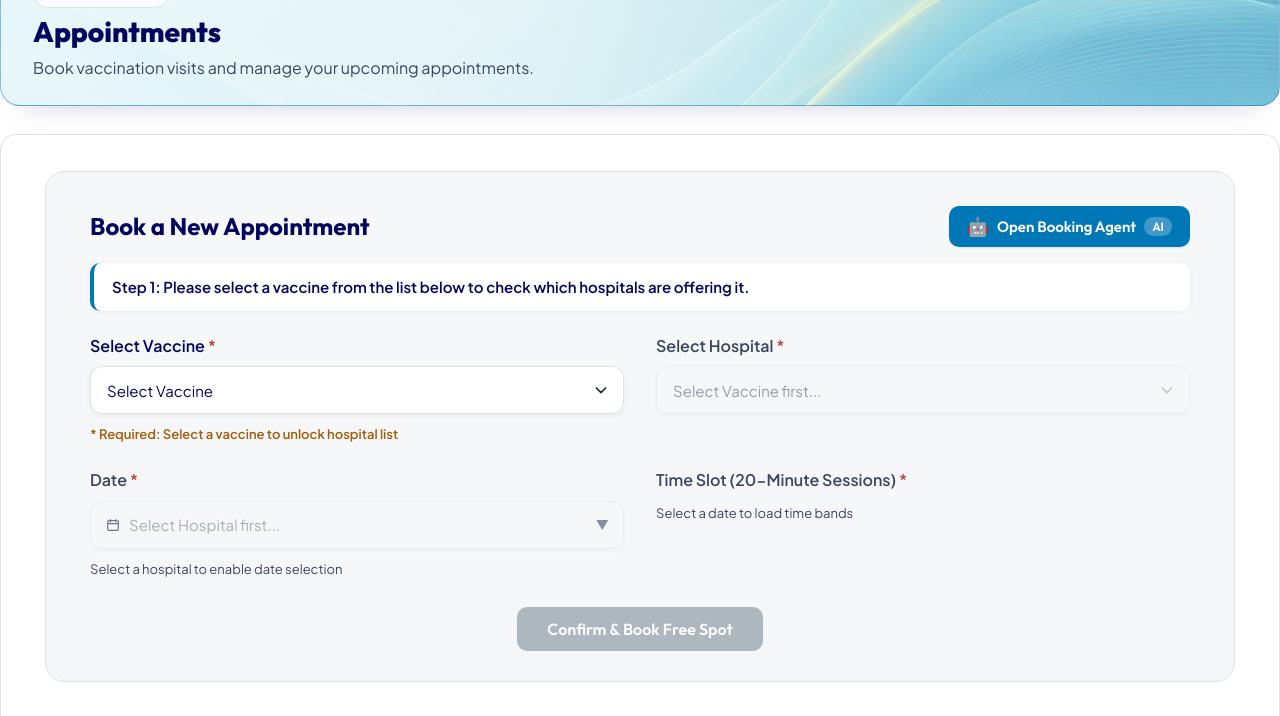
Test: Booking Management - Create Booking Form & Validation › handles API failure gracefully and displays error notification
Select "COVID-19 mRNA Booster (Moderna) (Routine)" in the dropdown with id "select-vaccine" at (357, 390), box [91,367,623,413]
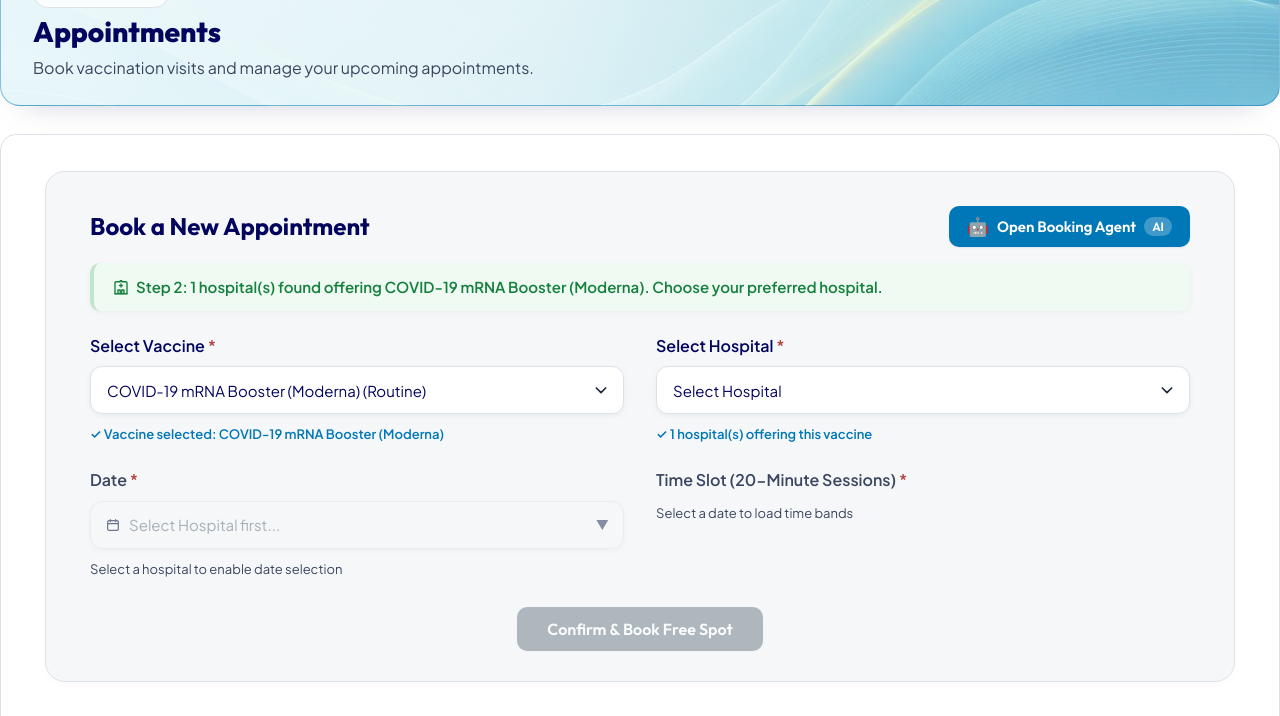
Select "National Hospital Colombo - Colombo 07" in the dropdown with id "select-hospital" at (923, 390), box [657,367,1189,413]
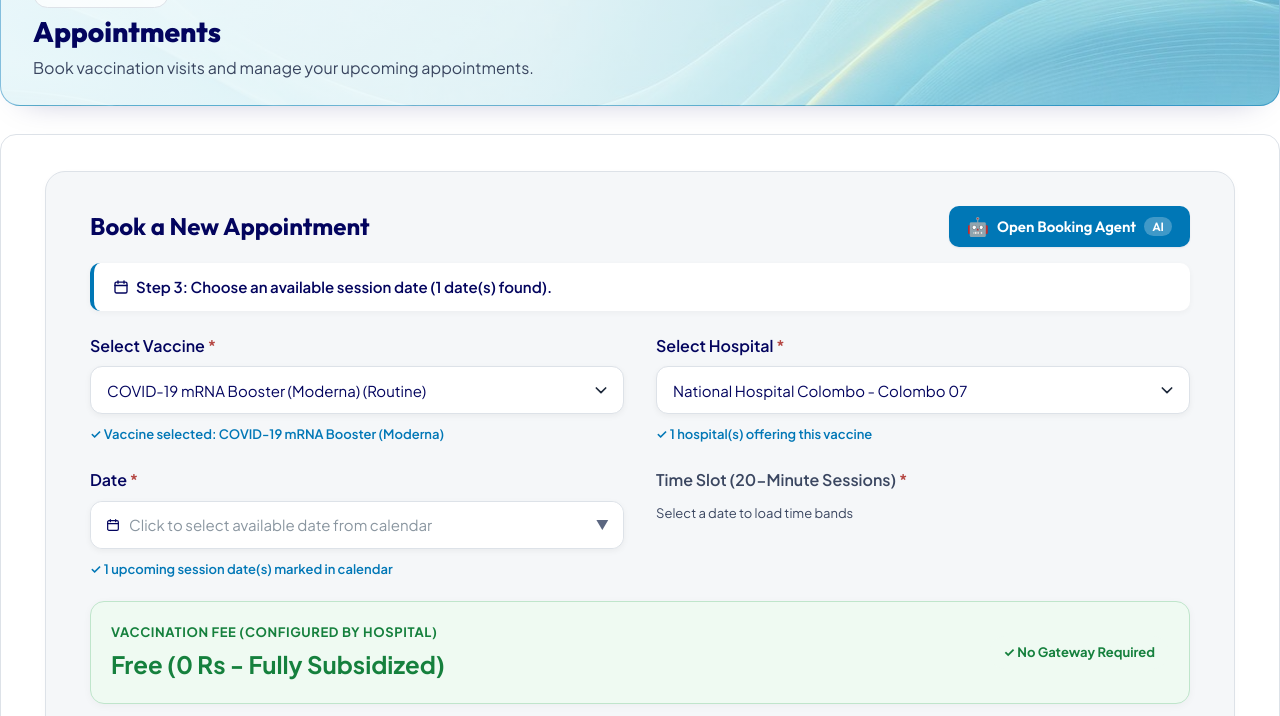
Click the text "Click to select available date from calendar".
click(281, 524)  # box [129,515,432,534]
(page scrolled)
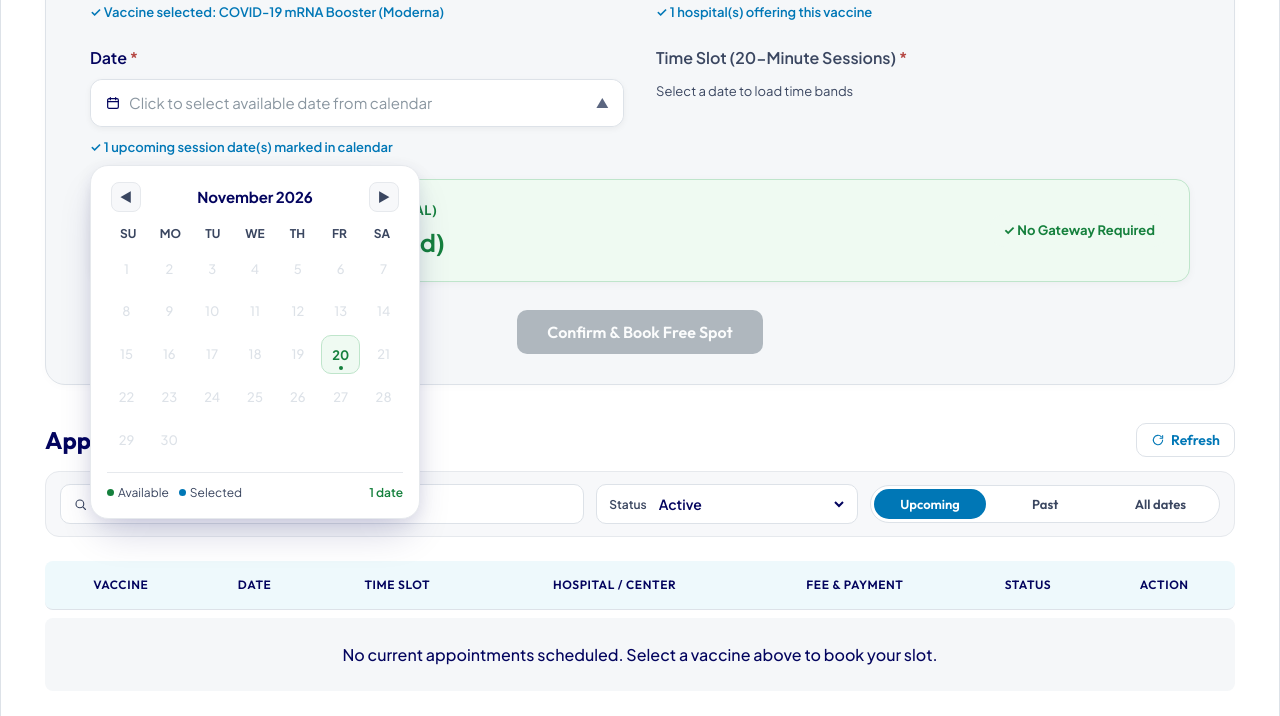
Click the button titled "2026-11-20".
click(341, 355)  # box [321,335,360,374]
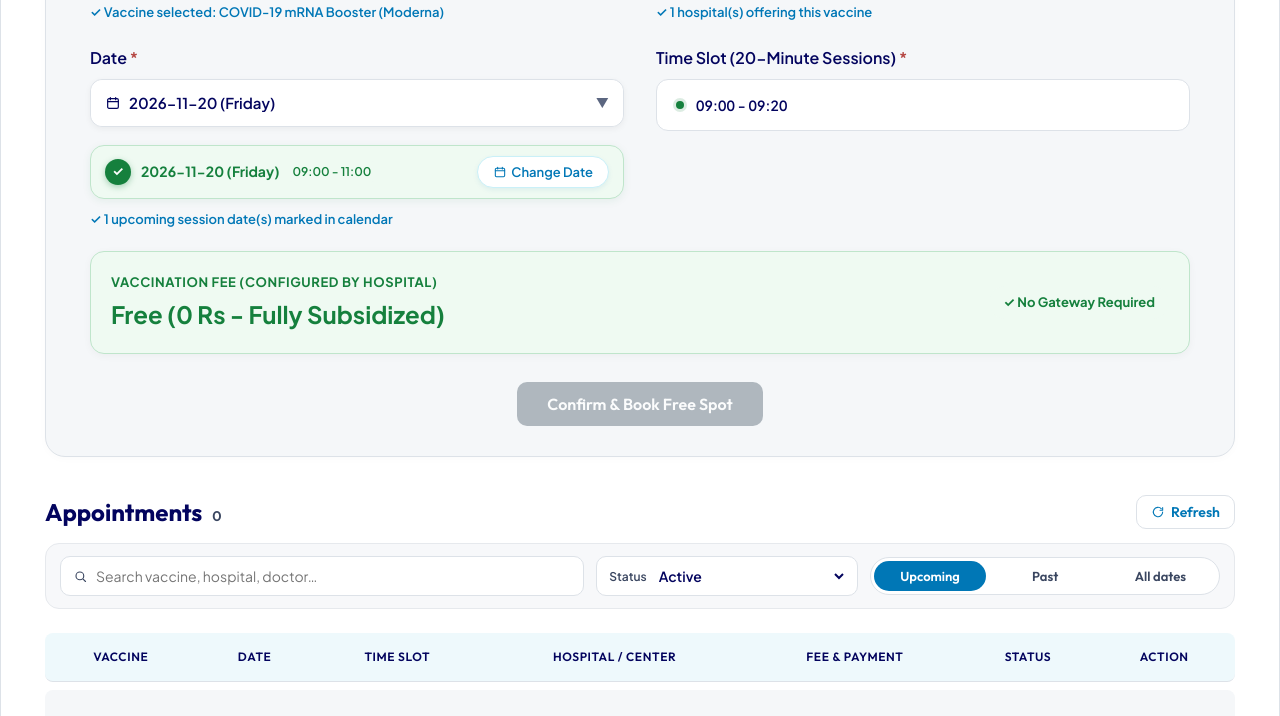
Click the option "09:00 - 09:20".
click(742, 104)  # box [663,86,1183,124]
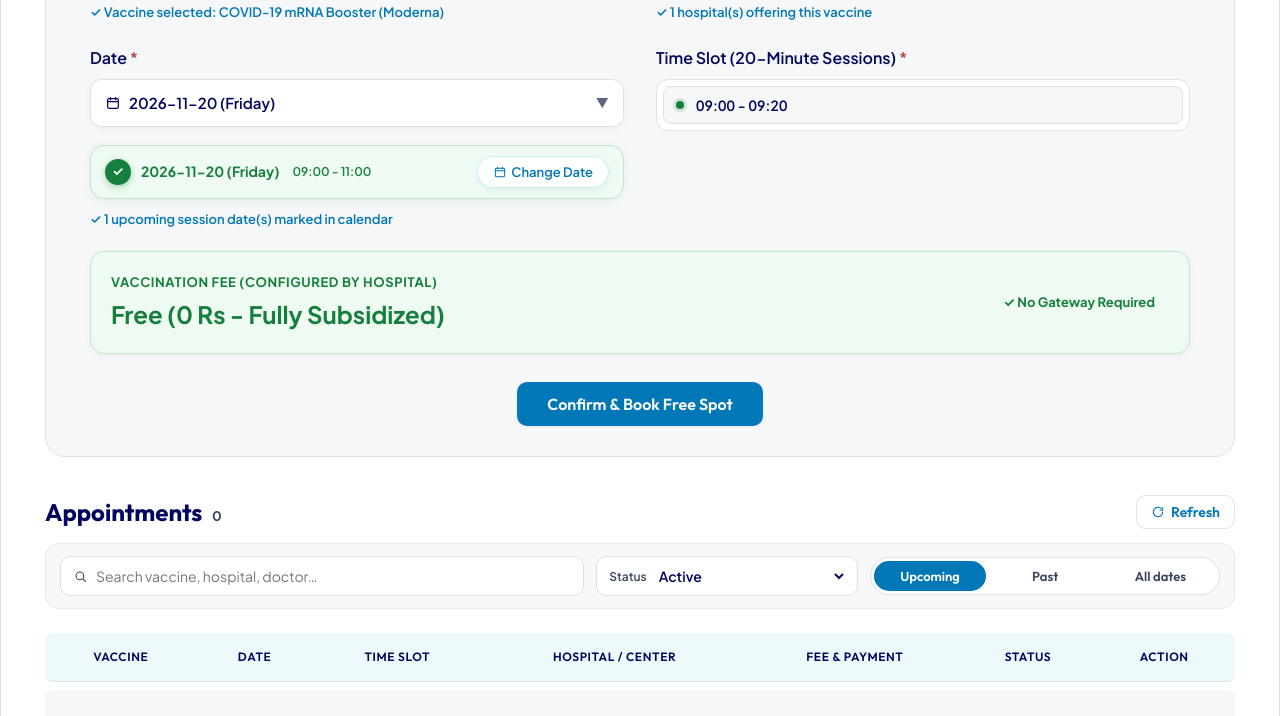
Expected: the button with class "btn-book-appointment" is enabled
Click the button with class "btn-book-appointment".
click(640, 404)  # box [517,382,763,426]
(page scrolled)
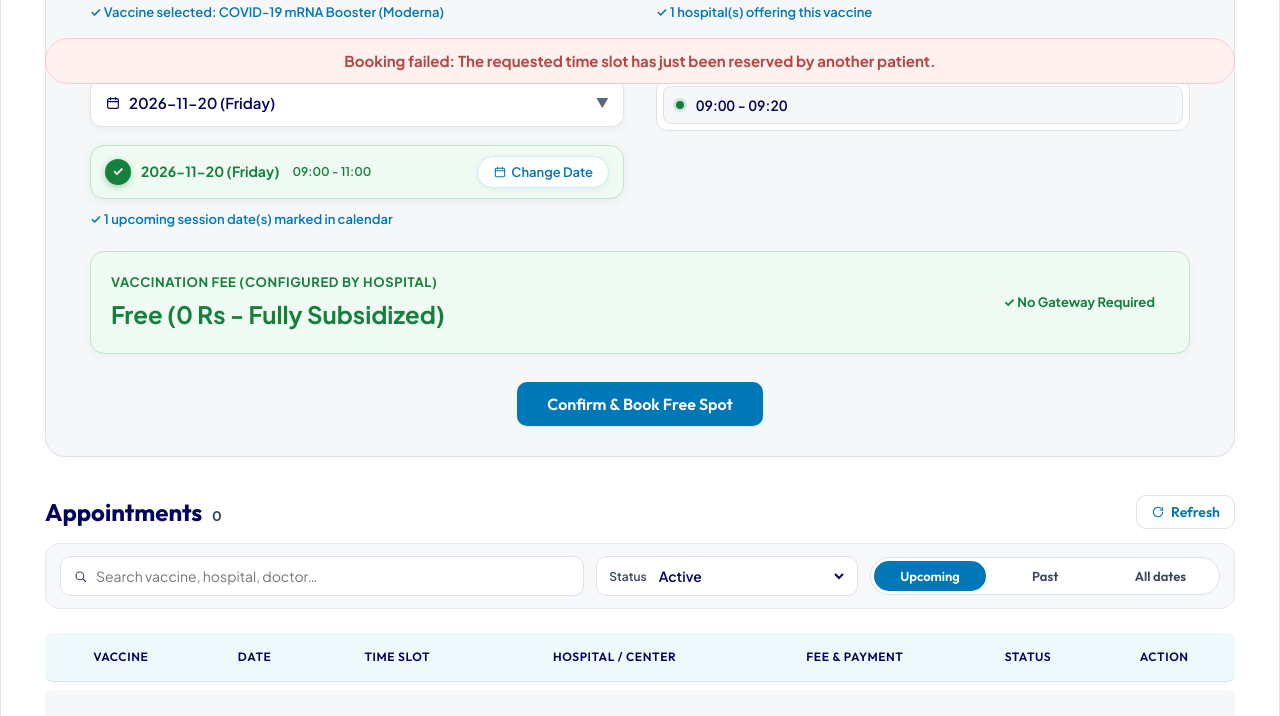
Expected: the text "Booking failed: The requested time slot has just been reserved by another patient." is shown, [344,51,936,70]
